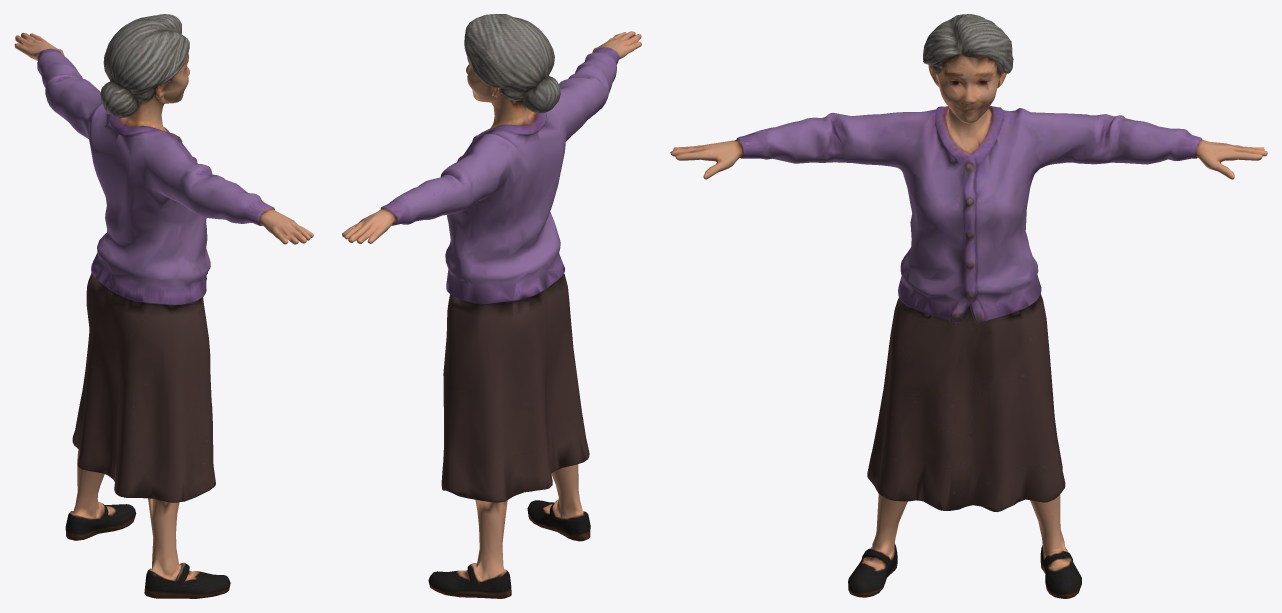
The model's file is oldF.glb.
The picture shows the model from 3 angles, left to right: view 1: azimuth 30°, elevation 25°; view 2: azimuth 150°, elevation 25°; view 3: azimuth 270°, elevation 25°; orthographic projection. The views are drawn at different scales.
Parts seen in each view (by area): view 1: tripo_node_9561e664-e65e-45ca-94c0-cdf17d740d82; view 2: tripo_node_9561e664-e65e-45ca-94c0-cdf17d740d82; view 3: tripo_node_9561e664-e65e-45ca-94c0-cdf17d740d82.
Part boxes in pixels (x1=…): tripo_node_9561e664-e65e-45ca-94c0-cdf17d740d82: x1=14, y1=14, x2=313, y2=598; tripo_node_9561e664-e65e-45ca-94c0-cdf17d740d82: x1=342, y1=14, x2=641, y2=598; tripo_node_9561e664-e65e-45ca-94c0-cdf17d740d82: x1=670, y1=14, x2=1267, y2=598.
Bounding box in the file's own units: 0.2154 × 0.9996 × 0.9499.
Materials: 1 (1 with a texture image).
